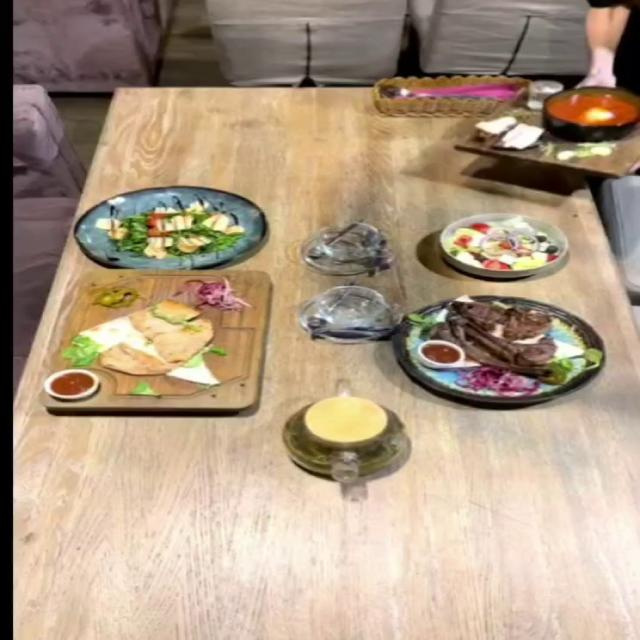meat: (390, 295, 606, 404)
salat: (72, 185, 264, 268), (438, 212, 570, 277)
soup: (454, 112, 635, 180)
tea: (280, 395, 410, 481)
